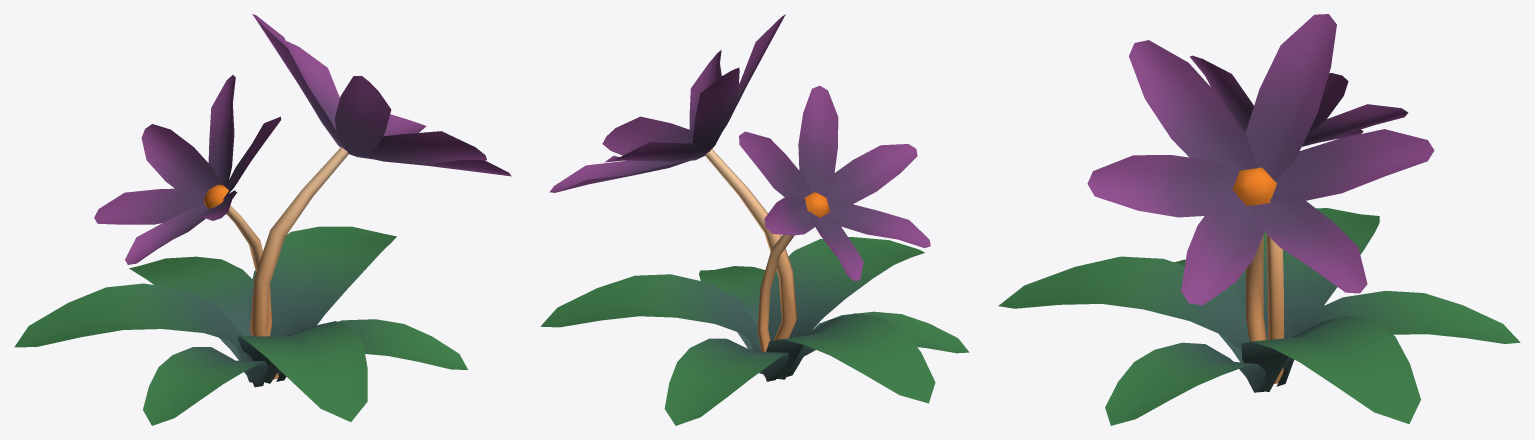
The model's file is Flower_009.fbx.
3 views of the same model, side by side, from view 1: azimuth 30°, elevation 25°; view 2: azimuth 150°, elevation 25°; view 3: azimuth 270°, elevation 25° (orthographic). The views are drawn at different scales.
Visible parts, largest first — view 1: Flower.009; view 2: Flower.009; view 3: Flower.009.
Boxes of the visible parts, x1,y1,x2,y2 form: Flower.009: (14,14,511,425); Flower.009: (540,14,969,425); Flower.009: (998,14,1520,425).
Bounding box in the file's own units: 2.33 × 1.81 × 2.26.
